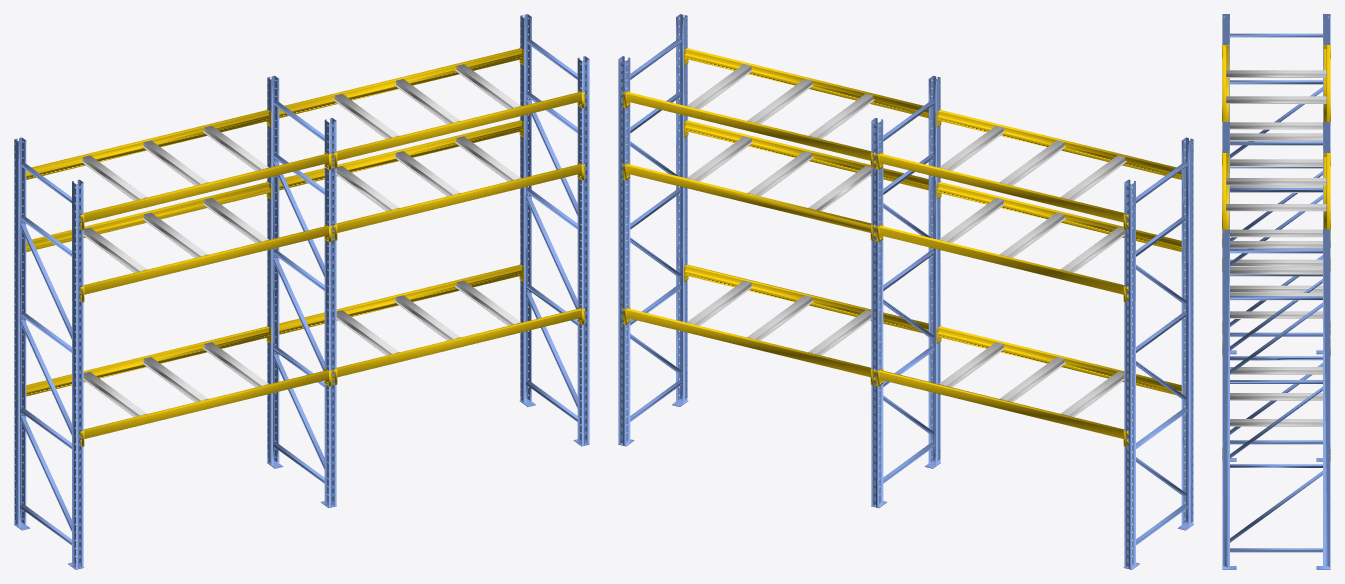
The model's file is shelves_high.dae.
The picture shows the model from 3 angles, left to right: view 1: azimuth 30°, elevation 25°; view 2: azimuth 150°, elevation 25°; view 3: azimuth 270°, elevation 25°; orthographic projection. The views are drawn at different scales.
Visible parts, largest first — view 1: instance_52_002; view 2: instance_52_002; view 3: instance_52_002.
Part boxes in pixels (<box>): instance_52_002: <box>14,14,589,569</box>; instance_52_002: <box>618,14,1193,569</box>; instance_52_002: <box>1222,14,1330,569</box>.
Size of the model in its own units: 5.11 by 1.07 by 3.66.
